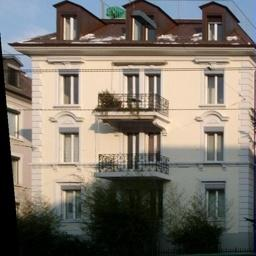building: (22, 2, 256, 241)
